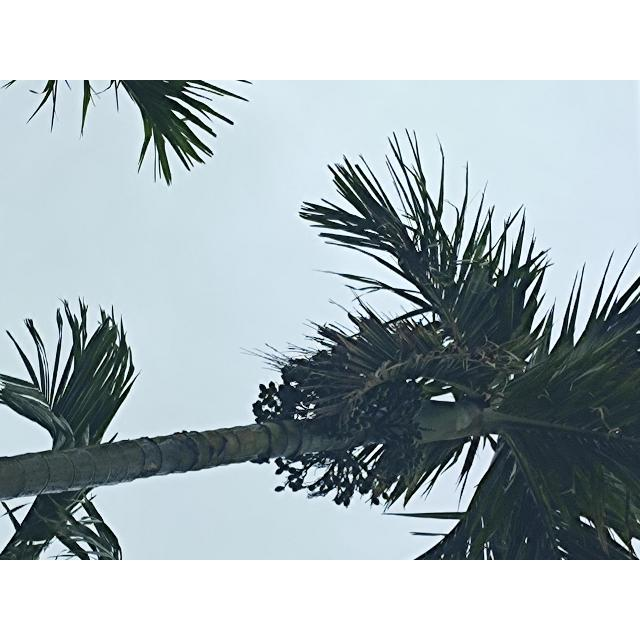good: (259, 386, 265, 392)
